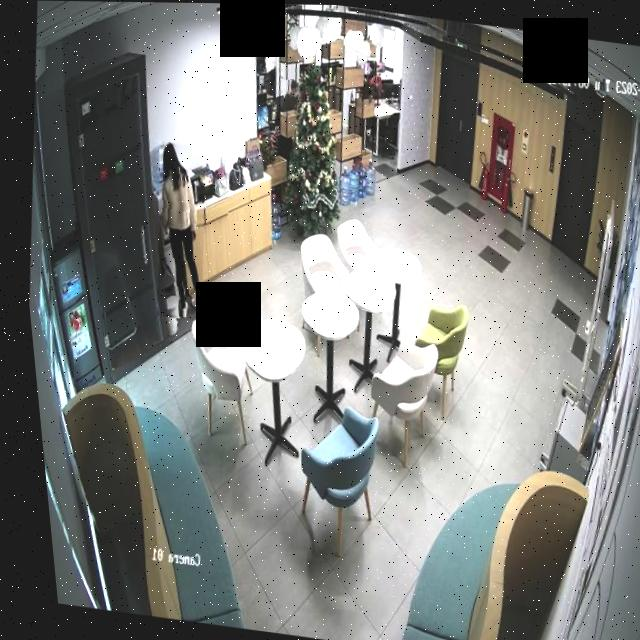person: (136, 140, 215, 321), (275, 78, 299, 115)
